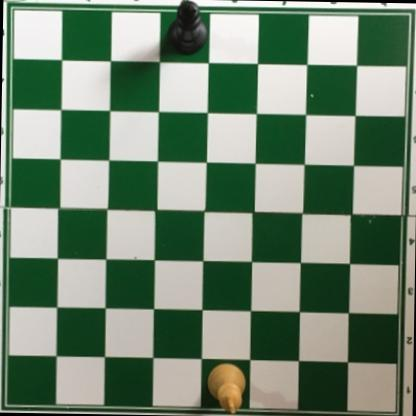black-king: (167, 0, 209, 58)
white-king: (205, 361, 246, 416)
